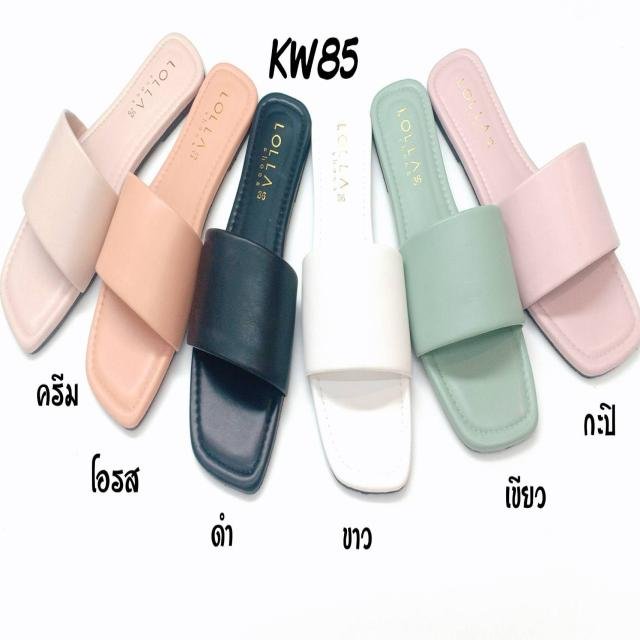black: (194, 84, 310, 490)
cream: (0, 31, 202, 352)
green: (373, 84, 534, 452)
kapi: (429, 52, 638, 376)
orot: (91, 60, 253, 419)
white: (300, 92, 414, 494)
